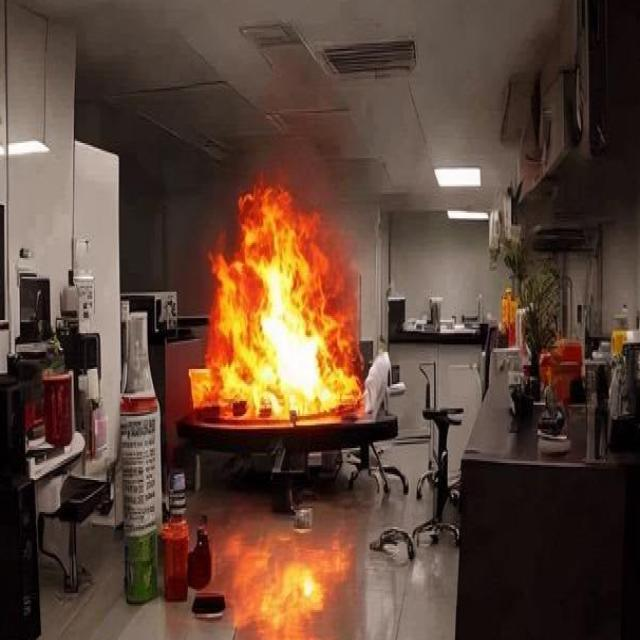smoke: (214, 174, 364, 442)
